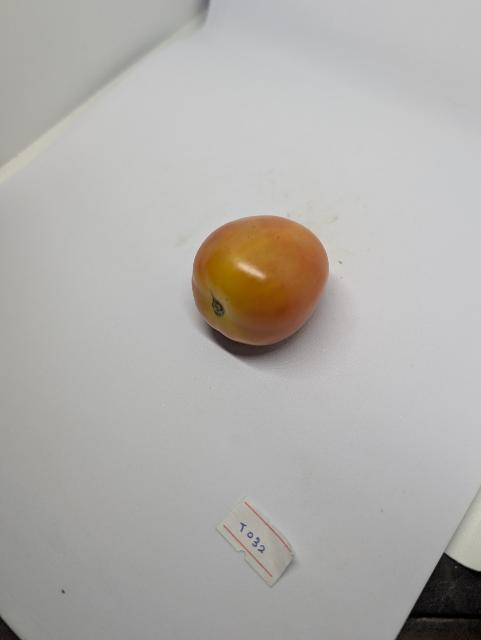turning: (173, 199, 342, 351)
